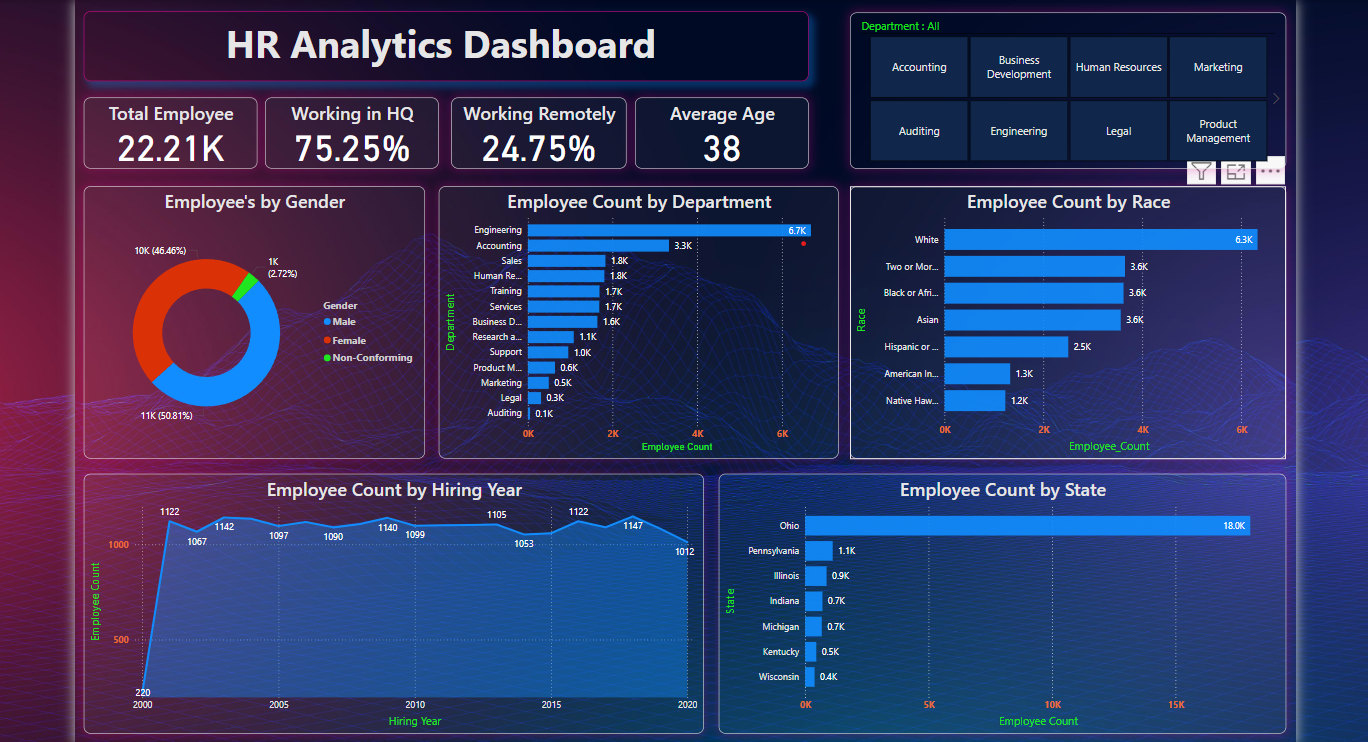

What the dashboard file says about the page in this screenshot:
{"tool":"powerbi","page":{"name":"Page 1","canvas":[1800,1100],"ordinal":0},"visuals":[{"type":"card","title":"Total Employee","fields":{"Values":["project_hr_analytics HR.Employee_Count"]},"box":[12.9,143.8,256.2,105.1],"z":0},{"type":"card","title":"Average Age","fields":{"Values":["project_hr_analytics HR.AvgAge"]},"box":[825.7,143.8,256.2,105.1],"z":1000},{"type":"card","title":"Working in HQ","fields":{"Values":["project_hr_analytics HR.HQPercentage"]},"box":[280.2,143.8,256.2,105.1],"z":2000},{"type":"card","title":"Working Remotely","fields":{"Values":["project_hr_analytics HR.RemotePercetage"]},"box":[554.8,143.8,258,105.1],"z":3000},{"type":"donutChart","title":"Employee''s by Gender","fields":{"Category":["project_hr_analytics HR.gender"],"Y":["project_hr_analytics HR.Employee_Count"]},"box":[12.9,274.6,503.2,401.8],"z":4000},{"type":"clusteredBarChart","title":"Employee Count by State","fields":{"Category":["project_hr_analytics HR.location_state"],"Y":["project_hr_analytics HR.Employee_Count"]},"box":[949.2,698.6,836.8,383.4],"z":5000},{"type":"clusteredBarChart","title":"Employee Count by Race","fields":{"Category":["project_hr_analytics HR.race"],"Y":["project_hr_analytics HR.Employee_Count"]},"box":[1142.8,274.6,643.3,401.8],"z":6000},{"type":"lineChart","title":"Employee Count by Hiring Year","fields":{"Category":["project_hr_analytics HR.Hiring_Year"],"Y":["project_hr_analytics HR.Employee_Count"]},"box":[12.9,698.6,914.2,383.4],"z":7000},{"type":"clusteredBarChart","title":"Employee Count by Department","fields":{"Y":["project_hr_analytics HR.Employee_Count"],"Category":["project_hr_analytics HR.department"]},"box":[536.4,274.6,589.8,401.8],"z":8000},{"type":"slicer","fields":{"Values":["project_hr_analytics HR.department"]},"box":[1142.8,18.4,643.3,230.4],"z":9000},{"type":"textbox","box":[12.9,16.6,1069,103.2],"z":10000}]}

Visuals, with their boxes in screenshot pixels (x1, y1, x2, y2):
"Total Employee" card: bbox=(73, 88, 249, 161)
"Average Age" card: bbox=(633, 88, 809, 161)
"Working in HQ" card: bbox=(257, 88, 434, 161)
"Working Remotely" card: bbox=(446, 88, 624, 161)
"Employee''s by Gender" donutChart: bbox=(73, 178, 420, 455)
"Employee Count by State" clusteredBarChart: bbox=(718, 470, 1294, 735)
"Employee Count by Race" clusteredBarChart: bbox=(851, 178, 1294, 455)
"Employee Count by Hiring Year" lineChart: bbox=(73, 470, 703, 735)
"Employee Count by Department" clusteredBarChart: bbox=(434, 178, 840, 455)
slicer - project_hr_analytics HR.department: bbox=(851, 2, 1294, 161)
textbox: bbox=(73, 1, 809, 72)
